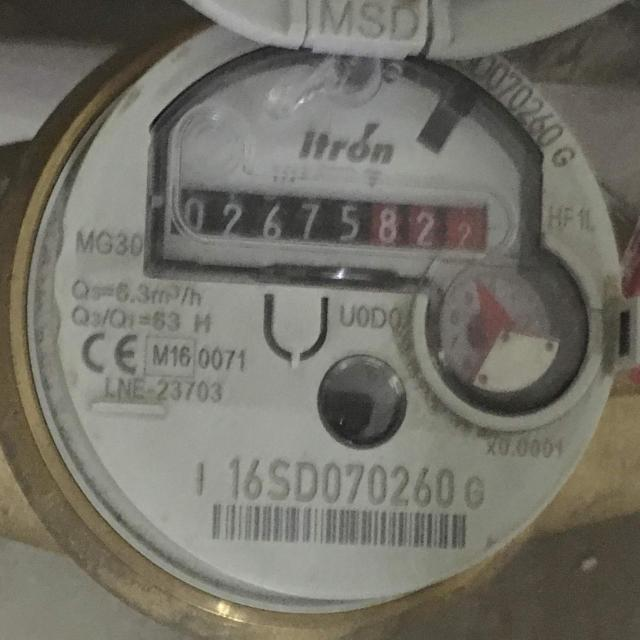gaz_meter: (31, 12, 621, 612)
indication: (176, 184, 490, 255)
